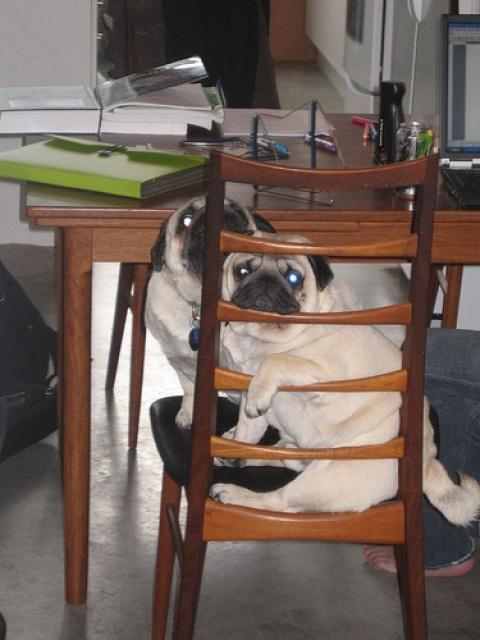Kursi: (151, 148, 439, 639)
